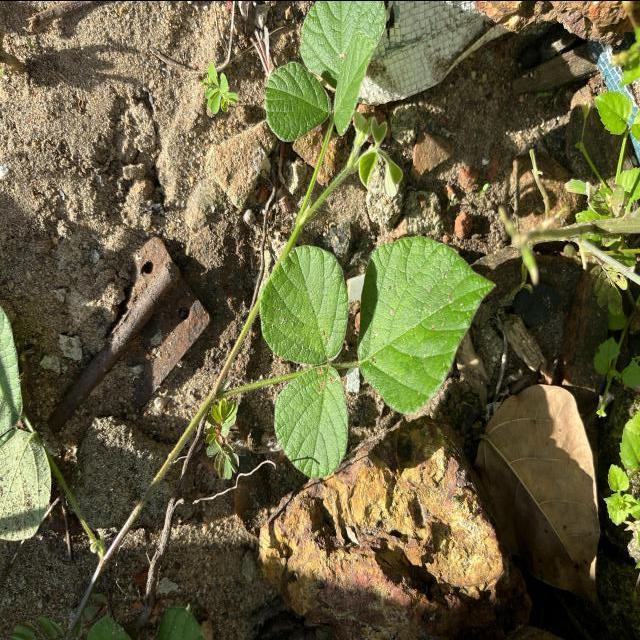Pseudarthria viscida: (258, 234, 498, 481)
